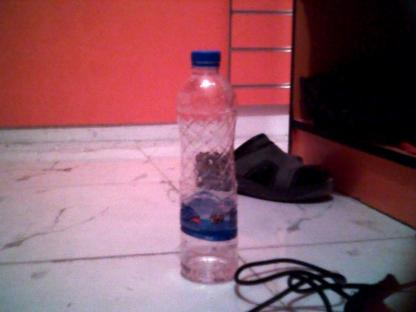Plastic Bottle: (176, 50, 238, 284)
